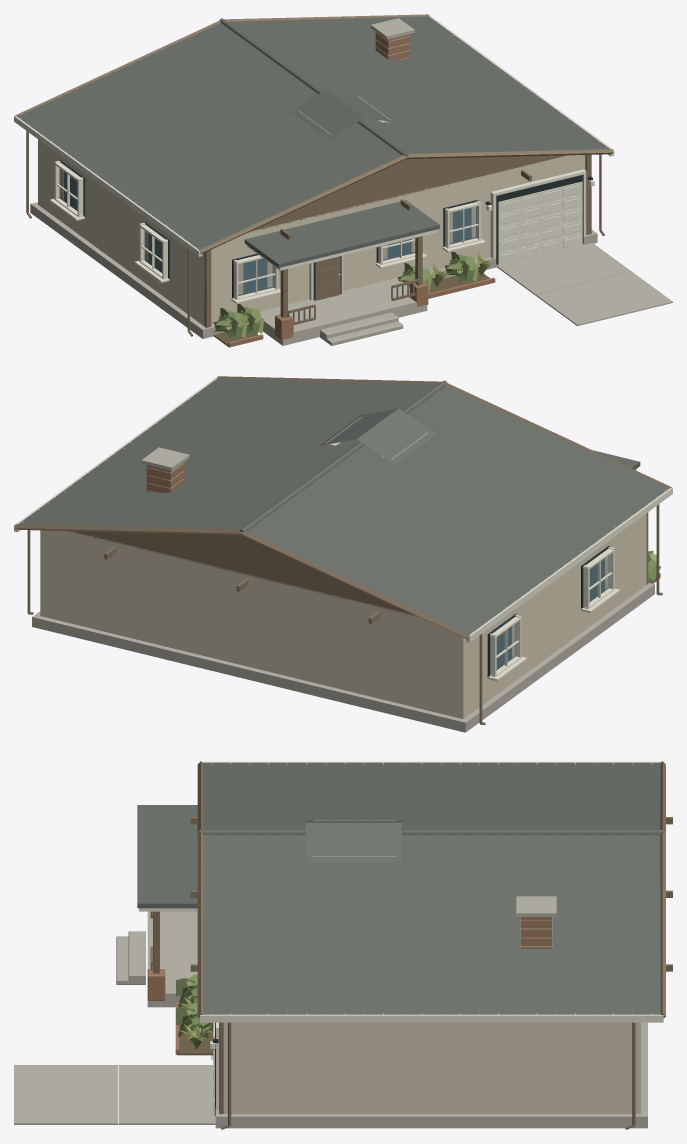
File: house-3.glb
The picture shows the model from 3 angles, top to bottom: view 1: azimuth 30°, elevation 25°; view 2: azimuth 150°, elevation 25°; view 3: azimuth 270°, elevation 25°; orthographic projection. The views are drawn at different scales.
Parts seen in each view (by area): view 1: shingle, stucco, concrete, ivory, wood, roof-edge, window-glazing, terracotta, window-interior, foliage, foliage-light, garden-soil; view 2: shingle, stucco, wood, concrete, roof-edge, ivory, terracotta, window-glazing; view 3: shingle, stucco, concrete, roof-edge, ivory, wood, terracotta, foliage, foliage-light, garden-soil.
Part boxes in pixels (x1,y1,x2,y2): shingle: [17, 16, 609, 267]; stucco: [38, 96, 585, 326]; concrete: [30, 18, 672, 345]; ivory: [14, 15, 614, 303]; wood: [15, 14, 613, 338]; roof-edge: [22, 18, 602, 246]; window-glazing: [59, 168, 476, 295]; terracotta: [228, 32, 495, 347]; window-interior: [58, 160, 583, 300]; foliage: [212, 251, 475, 339]; foliage-light: [214, 260, 478, 337]; garden-soil: [213, 272, 489, 347]; shingle: [18, 378, 669, 634]; stucco: [40, 416, 646, 719]; wood: [14, 376, 671, 724]; concrete: [32, 447, 654, 732]; roof-edge: [25, 380, 663, 631]; ivory: [14, 376, 672, 681]; terracotta: [146, 462, 660, 577]; window-glazing: [496, 555, 608, 670]; shingle: [137, 762, 660, 1014]; stucco: [222, 820, 640, 1113]; concrete: [14, 896, 647, 1128]; roof-edge: [199, 764, 664, 1013]; ivory: [139, 761, 663, 1116]; wood: [150, 761, 672, 1129]; terracotta: [147, 917, 551, 1054]; foliage: [178, 974, 213, 1035]; foliage-light: [176, 978, 213, 1038]; garden-soil: [177, 1005, 213, 1055].
Size of the model in its own units: 17.25 by 5.85 by 18.91.
